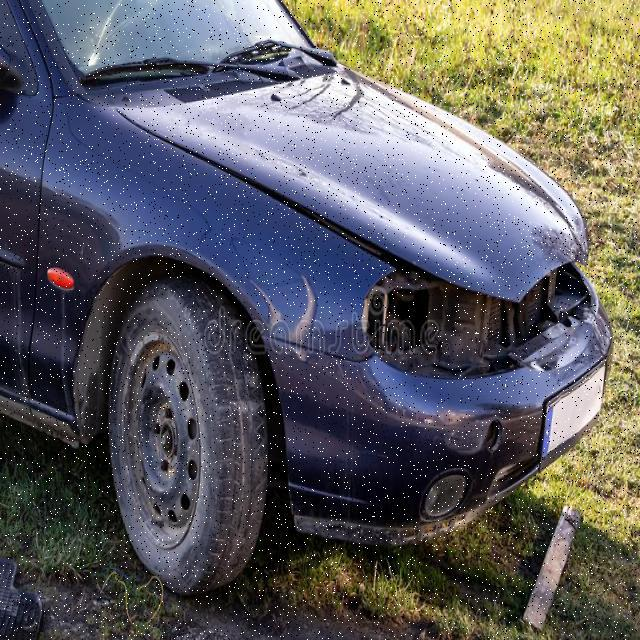fender-dent: (39, 149, 328, 430)
